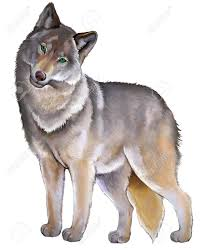Lobo: (9, 2, 195, 244)
